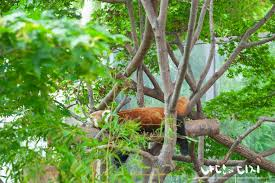redPanda: (84, 87, 195, 145)
